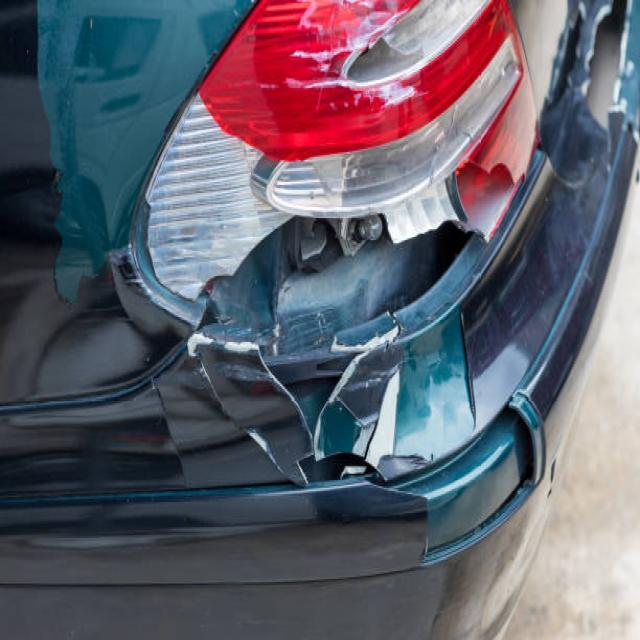Head Light: (172, 1, 515, 386)
